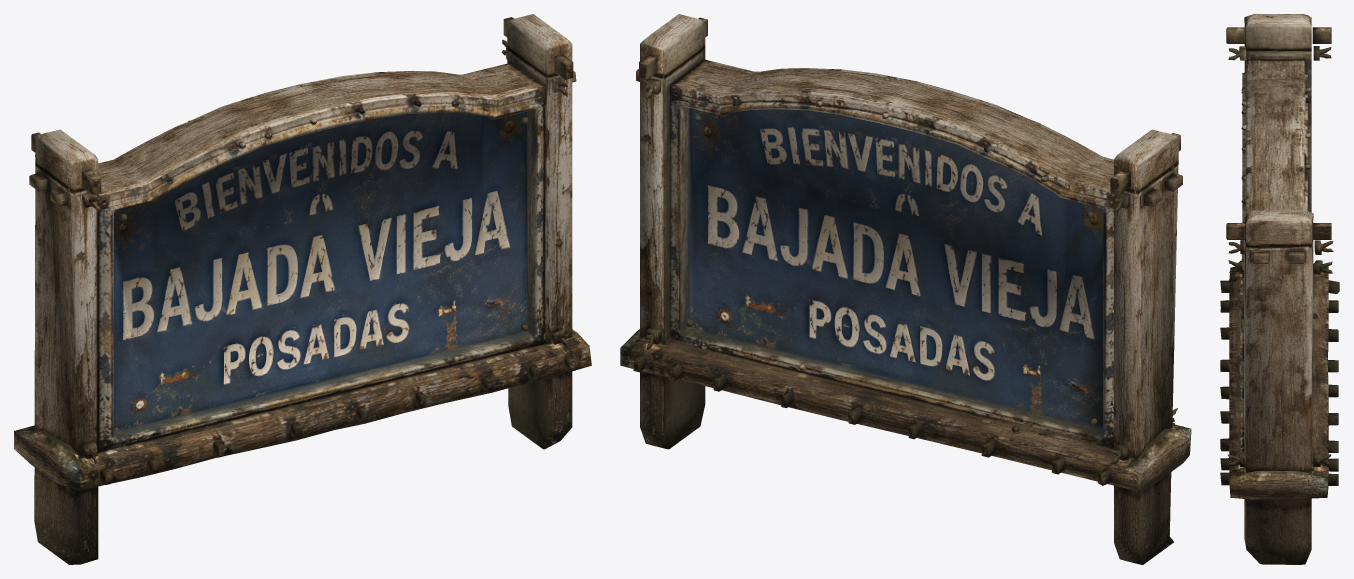
Rendered from SM_Utileria_CartelDesgastado_01.fbx.
3 renders of one model, left to right at view 1: azimuth 30°, elevation 25°; view 2: azimuth 150°, elevation 25°; view 3: azimuth 270°, elevation 25°, orthographic. The views are drawn at different scales.
Visible parts, largest first — view 1: SM_Utileria_CartelDesgastado_01; view 2: SM_Utileria_CartelDesgastado_01; view 3: SM_Utileria_CartelDesgastado_01.
Boxes of the visible parts, <box> form: SM_Utileria_CartelDesgastado_01: <box>14,14,591,564</box>; SM_Utileria_CartelDesgastado_01: <box>620,14,1191,564</box>; SM_Utileria_CartelDesgastado_01: <box>1220,14,1339,564</box>.
Bounding box in the file's own units: 0.998 × 0.752 × 0.2324.
1 material, 1 textured.
